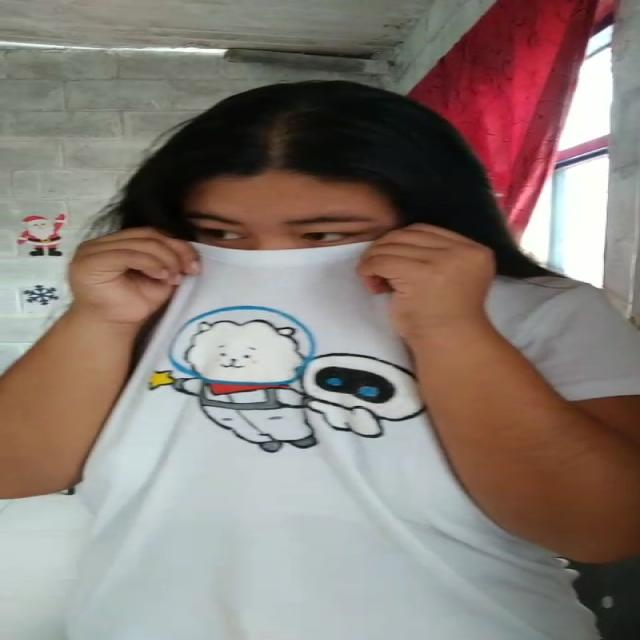8_ropa_rostro: (89, 228, 482, 413)
